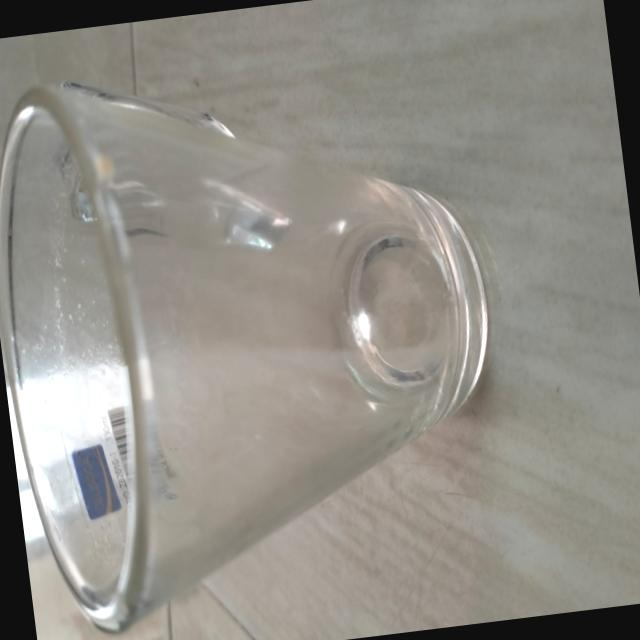glass-VX4N: (0, 28, 537, 640)
